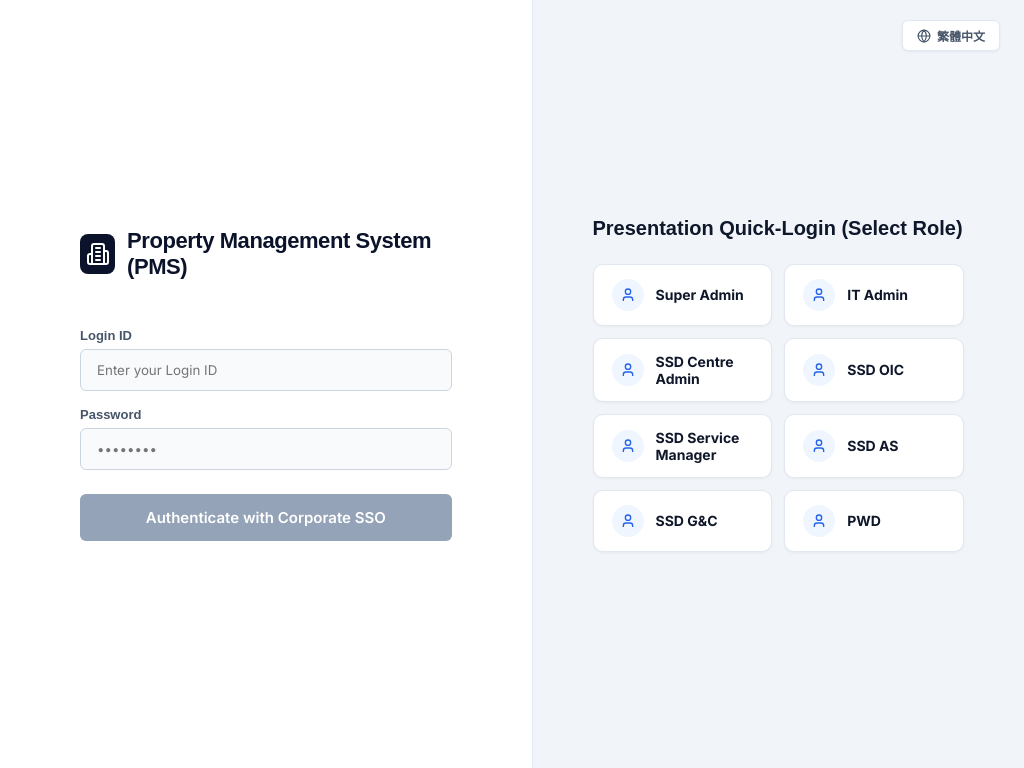
Test case: AuthContext › SSD_GC has full editing permissions
This screenshot has width=1024, height=768.
Click the button "SSD G&C" at (682, 520), box [592,490,772,552]
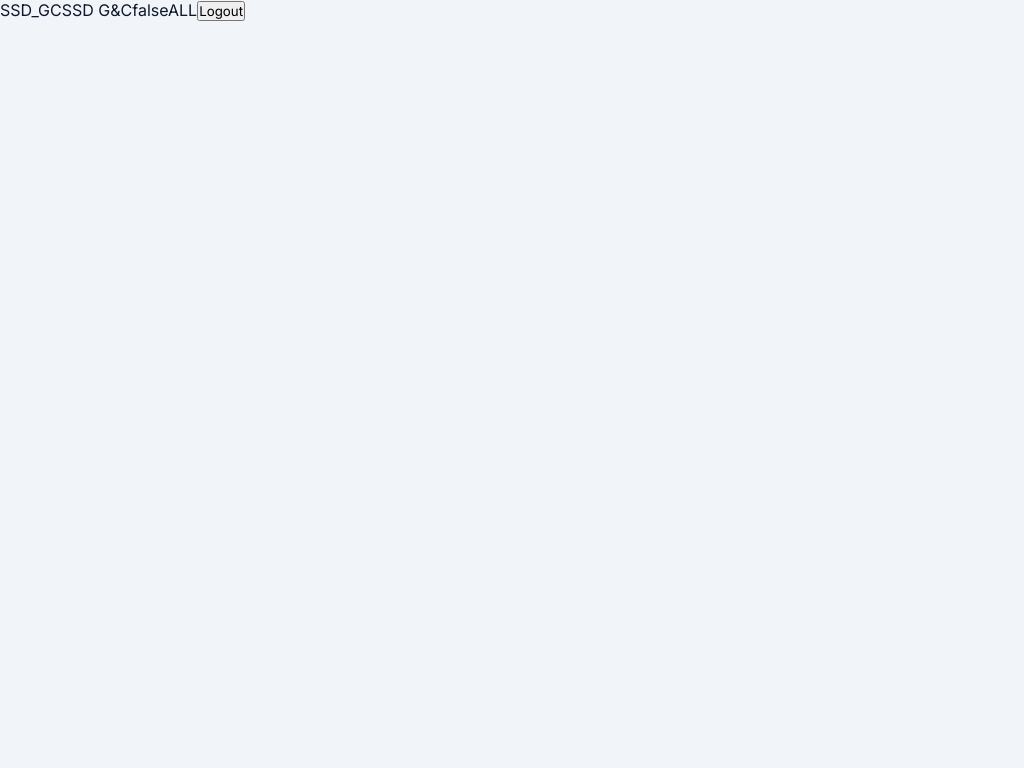
expect the text with test id "canCreate" reads "false": met, box [132,0,168,20]
expect the text with test id "scope" reads "ALL": met, box [168,0,197,20]
